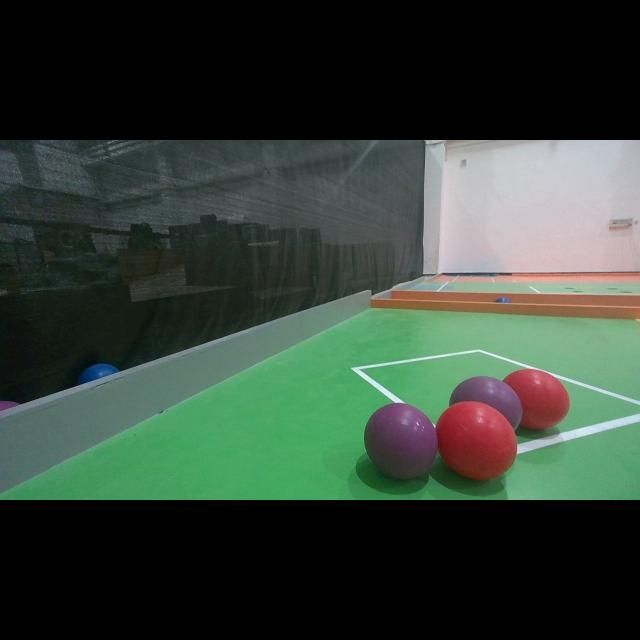P: (448, 373, 524, 453), (364, 404, 438, 481), (0, 399, 16, 410)
R: (437, 400, 518, 480), (502, 369, 570, 429)
